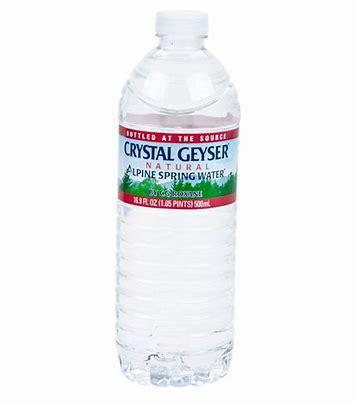plastic_bottle: (111, 7, 240, 390)
